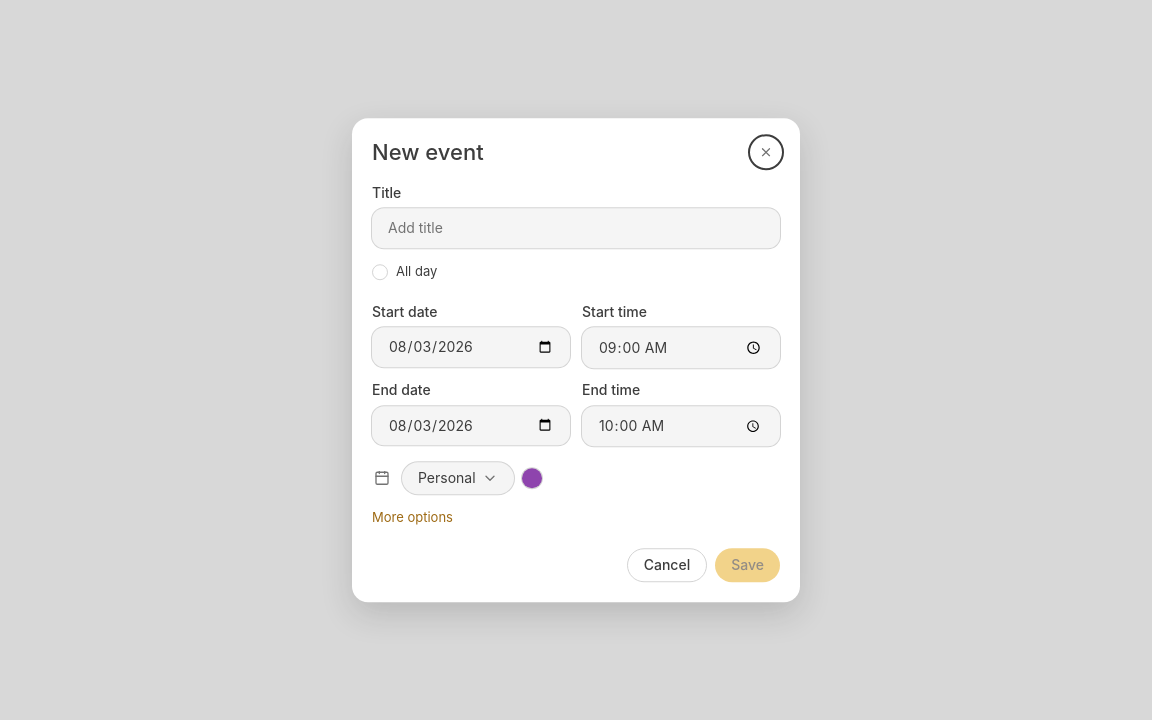
it: EventModal — blocked › enables Save once the form is valid
Type "Retro" into the field labelled "Title" at (576, 228), box [372, 208, 780, 248]
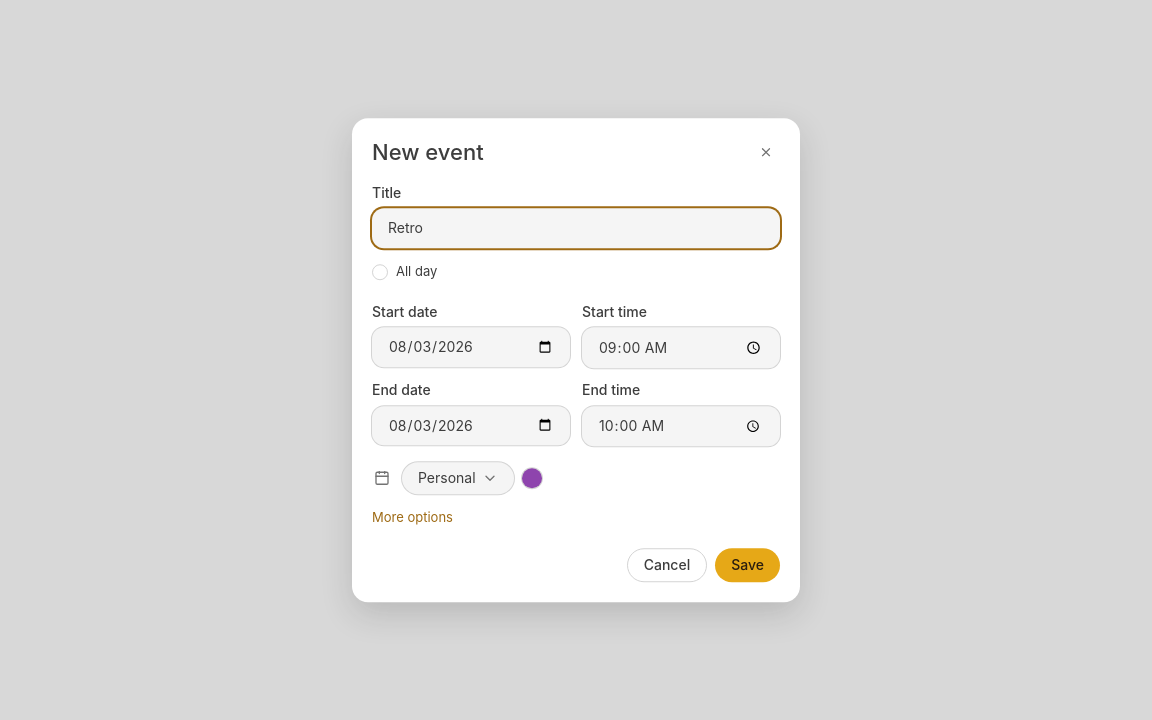
Result: the button "Save" is enabled at [715, 548, 780, 582]
